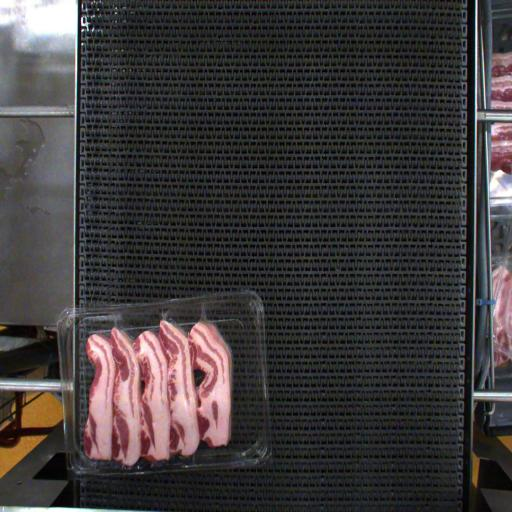packaging-error: (190, 301, 214, 328), (102, 308, 128, 330), (152, 304, 178, 324)
